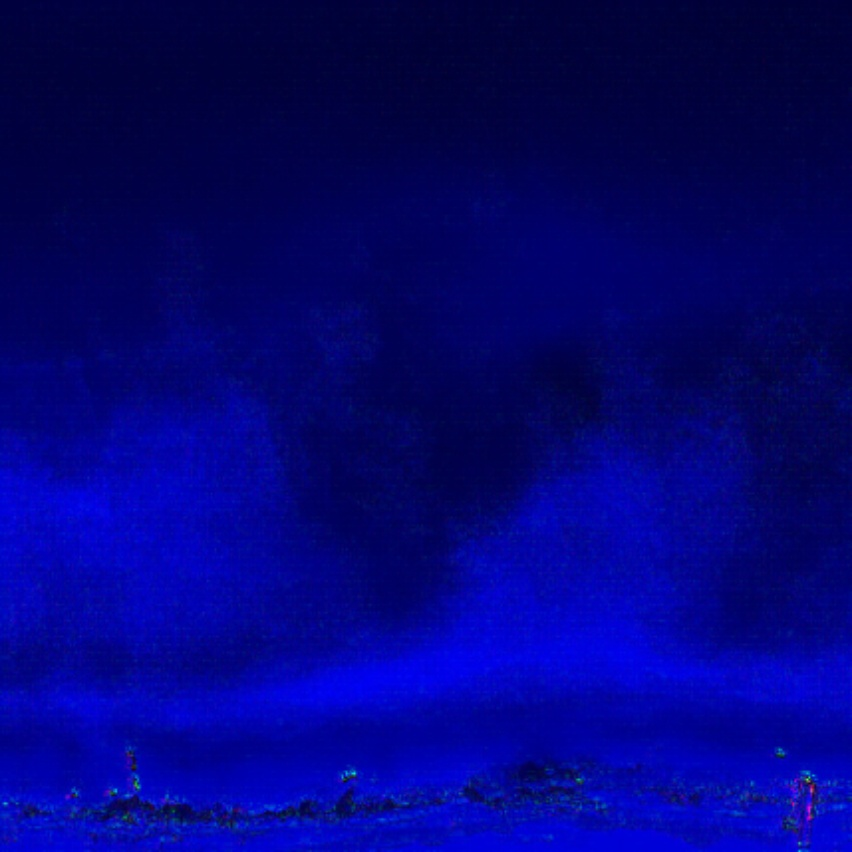rip_current: (248, 214, 594, 663)
